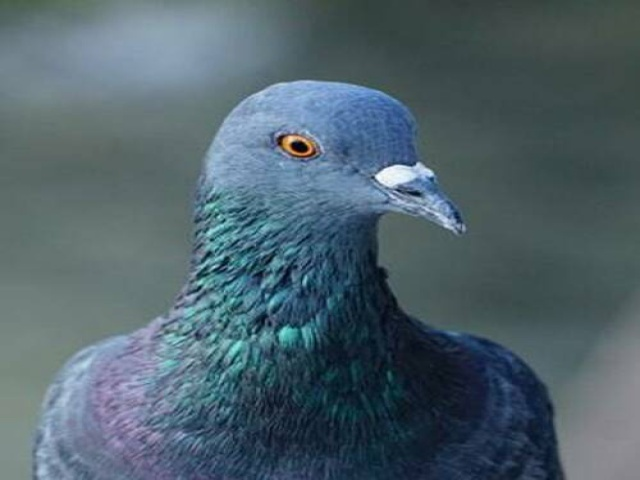Pigeon: (27, 71, 572, 480)
